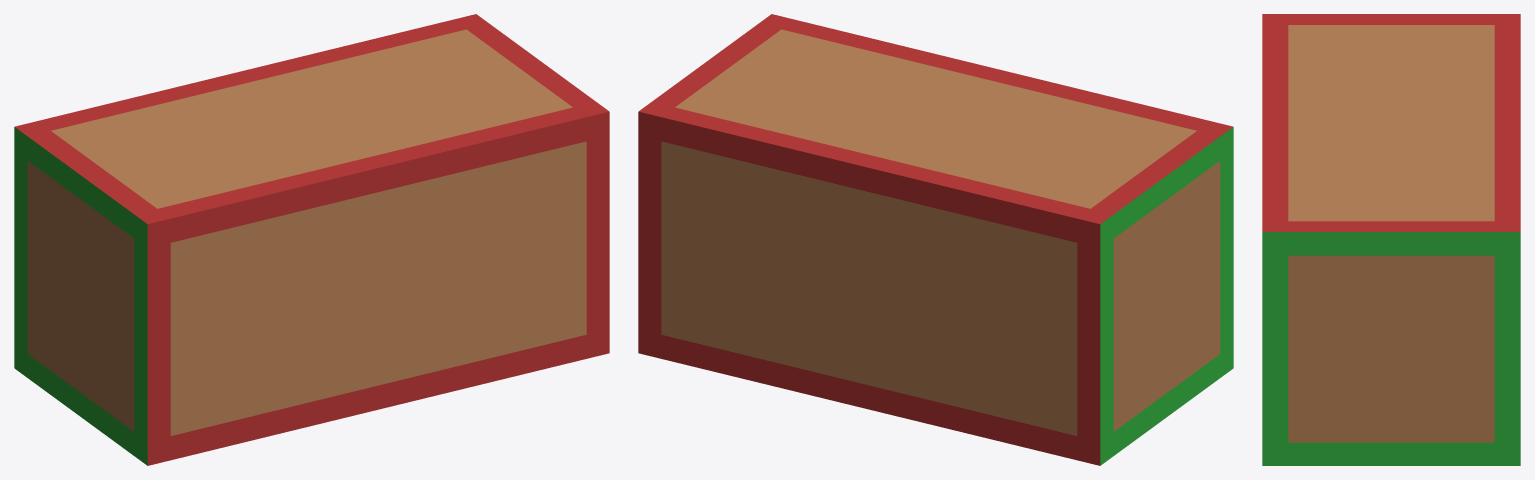
Rendered from hako_b 1.FBX.
The picture shows the model from 3 angles, left to right: view 1: azimuth 30°, elevation 25°; view 2: azimuth 150°, elevation 25°; view 3: azimuth 270°, elevation 25°; orthographic projection. The views are drawn at different scales.
Parts seen in each view (by area): view 1: Box001; view 2: Box001; view 3: Box001.
Boxes of the visible parts, x1,y1,x2,y2 form: Box001: [14, 14, 609, 465]; Box001: [638, 14, 1233, 465]; Box001: [1262, 14, 1520, 465].
Bounding box in the file's own units: 787 × 394 × 394.
